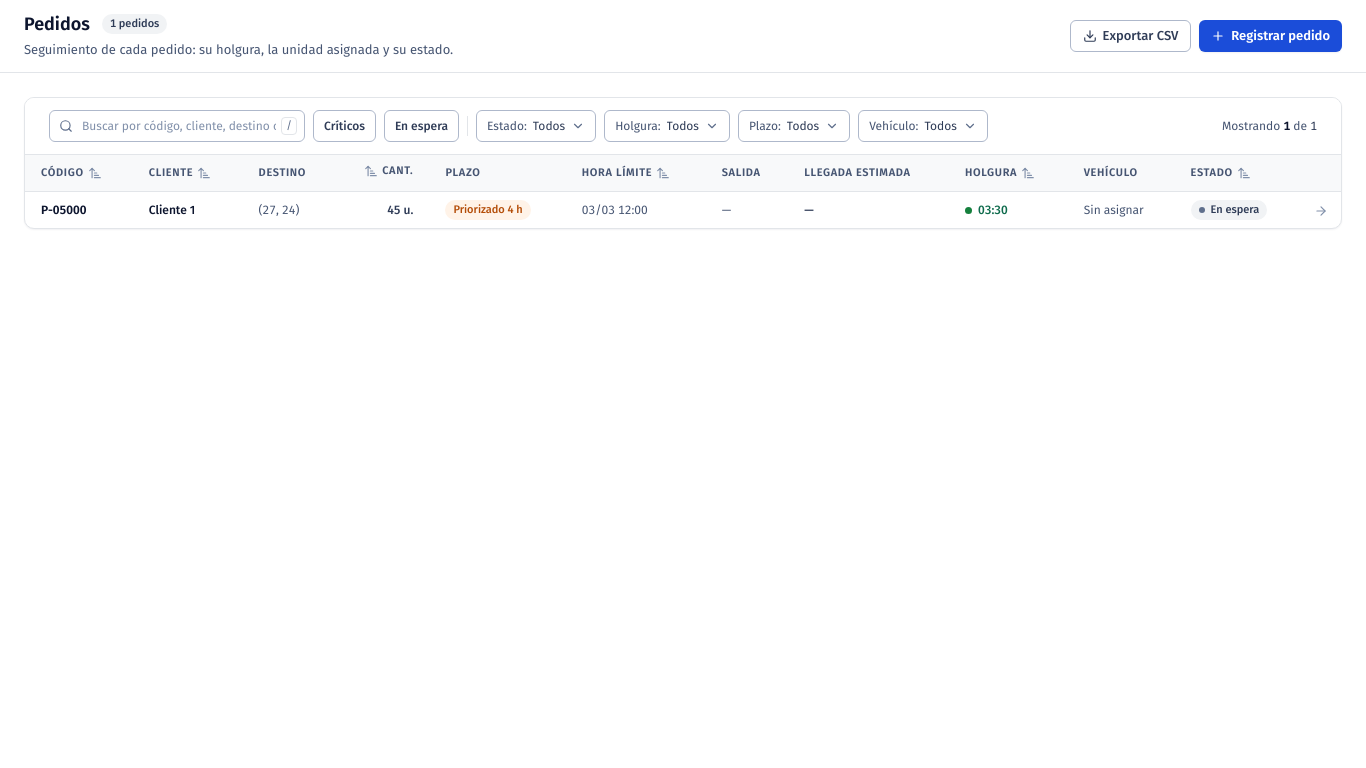
Test: Pedidos · detalle del pedido › un pedido sin despachar dice que aún no tiene unidad
What coordinates should you click on to do the following:
click the text "P-05000"
I would click on:
 (79, 210)
Its box is [25,192,133,228].
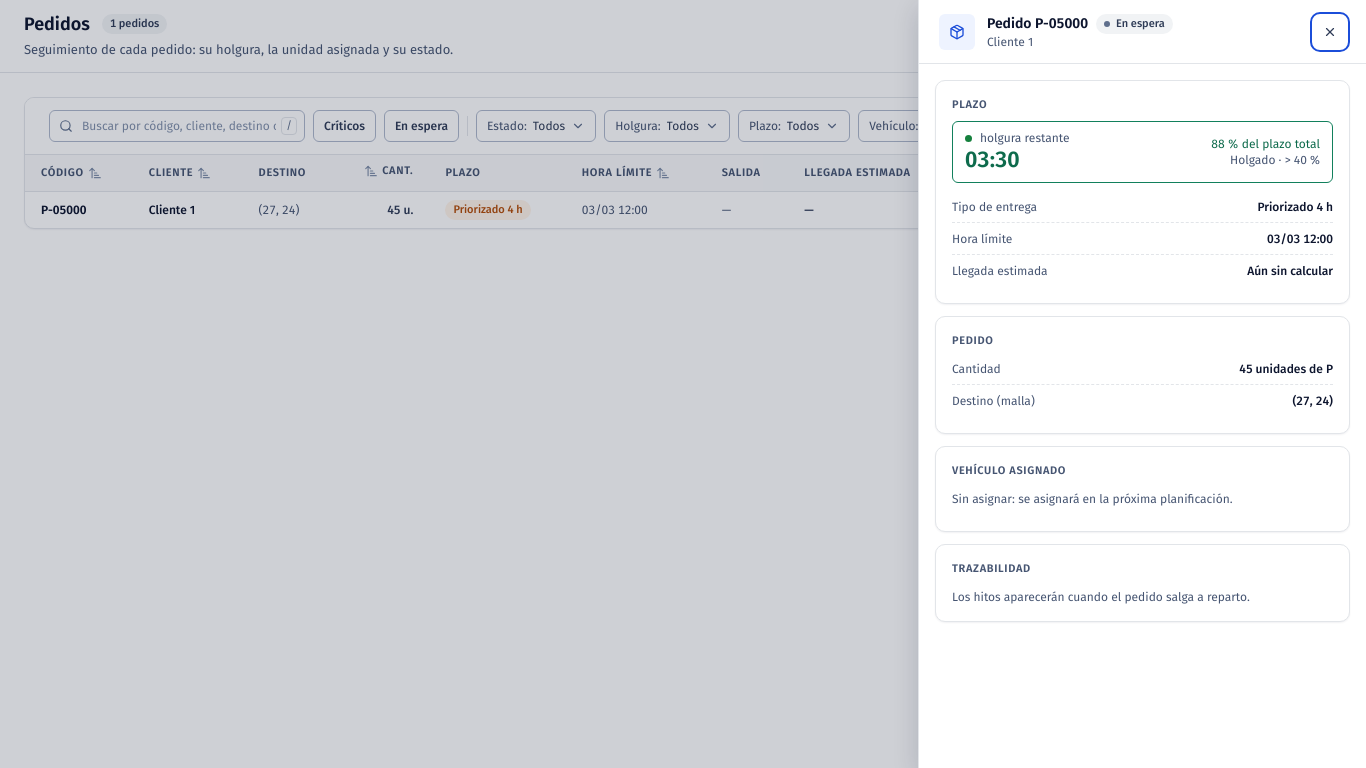
Now the heading "Vehículo asignado" is shown, box [952,463,1066,479]
Now the text "Sin asignar: se asignará en la próxima planificación." is shown, box [952,492,1233,506]
